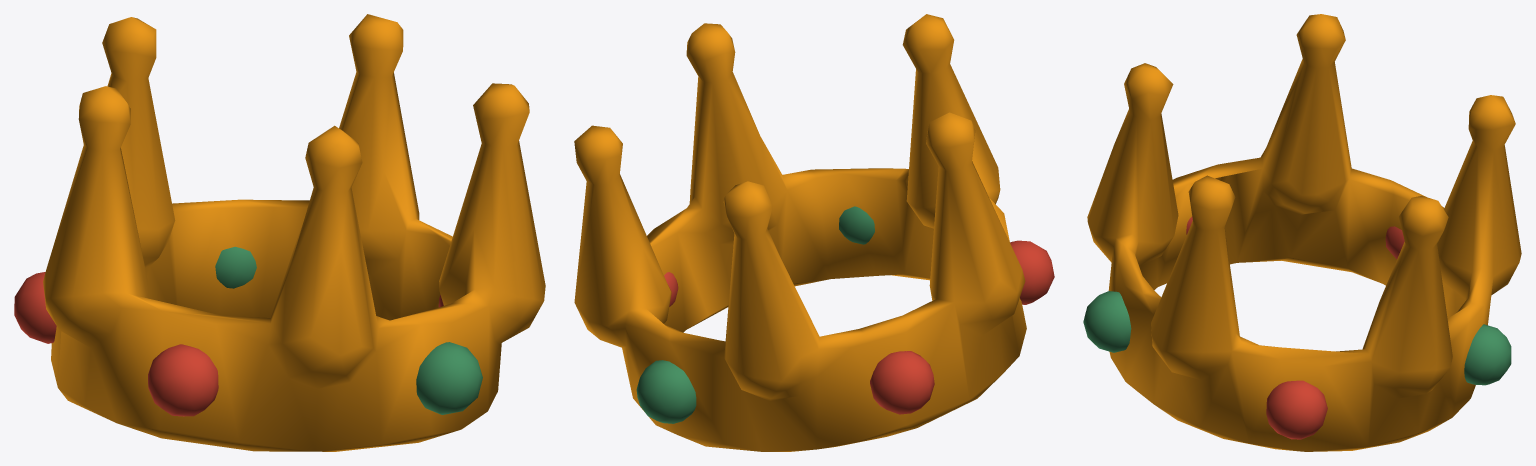
File: vuongmien.glb
The picture shows the model from 3 angles, left to right: view 1: azimuth 30°, elevation 25°; view 2: azimuth 150°, elevation 25°; view 3: azimuth 270°, elevation 25°; orthographic projection. The views are drawn at different scales.
Visible parts, largest first — view 1: Vuong_Mien, Da_Quy; view 2: Vuong_Mien, Da_Quy; view 3: Vuong_Mien, Da_Quy.
Part boxes in pixels (box(x1,y1,x2,y2)): Vuong_Mien: box(43, 14, 545, 451); Da_Quy: box(14, 246, 482, 416); Vuong_Mien: box(574, 14, 1026, 451); Da_Quy: box(636, 206, 1054, 423); Vuong_Mien: box(1087, 14, 1521, 451); Da_Quy: box(1083, 216, 1511, 439).
Size of the model in its own units: 0.1074 by 0.0814 by 0.1063.
